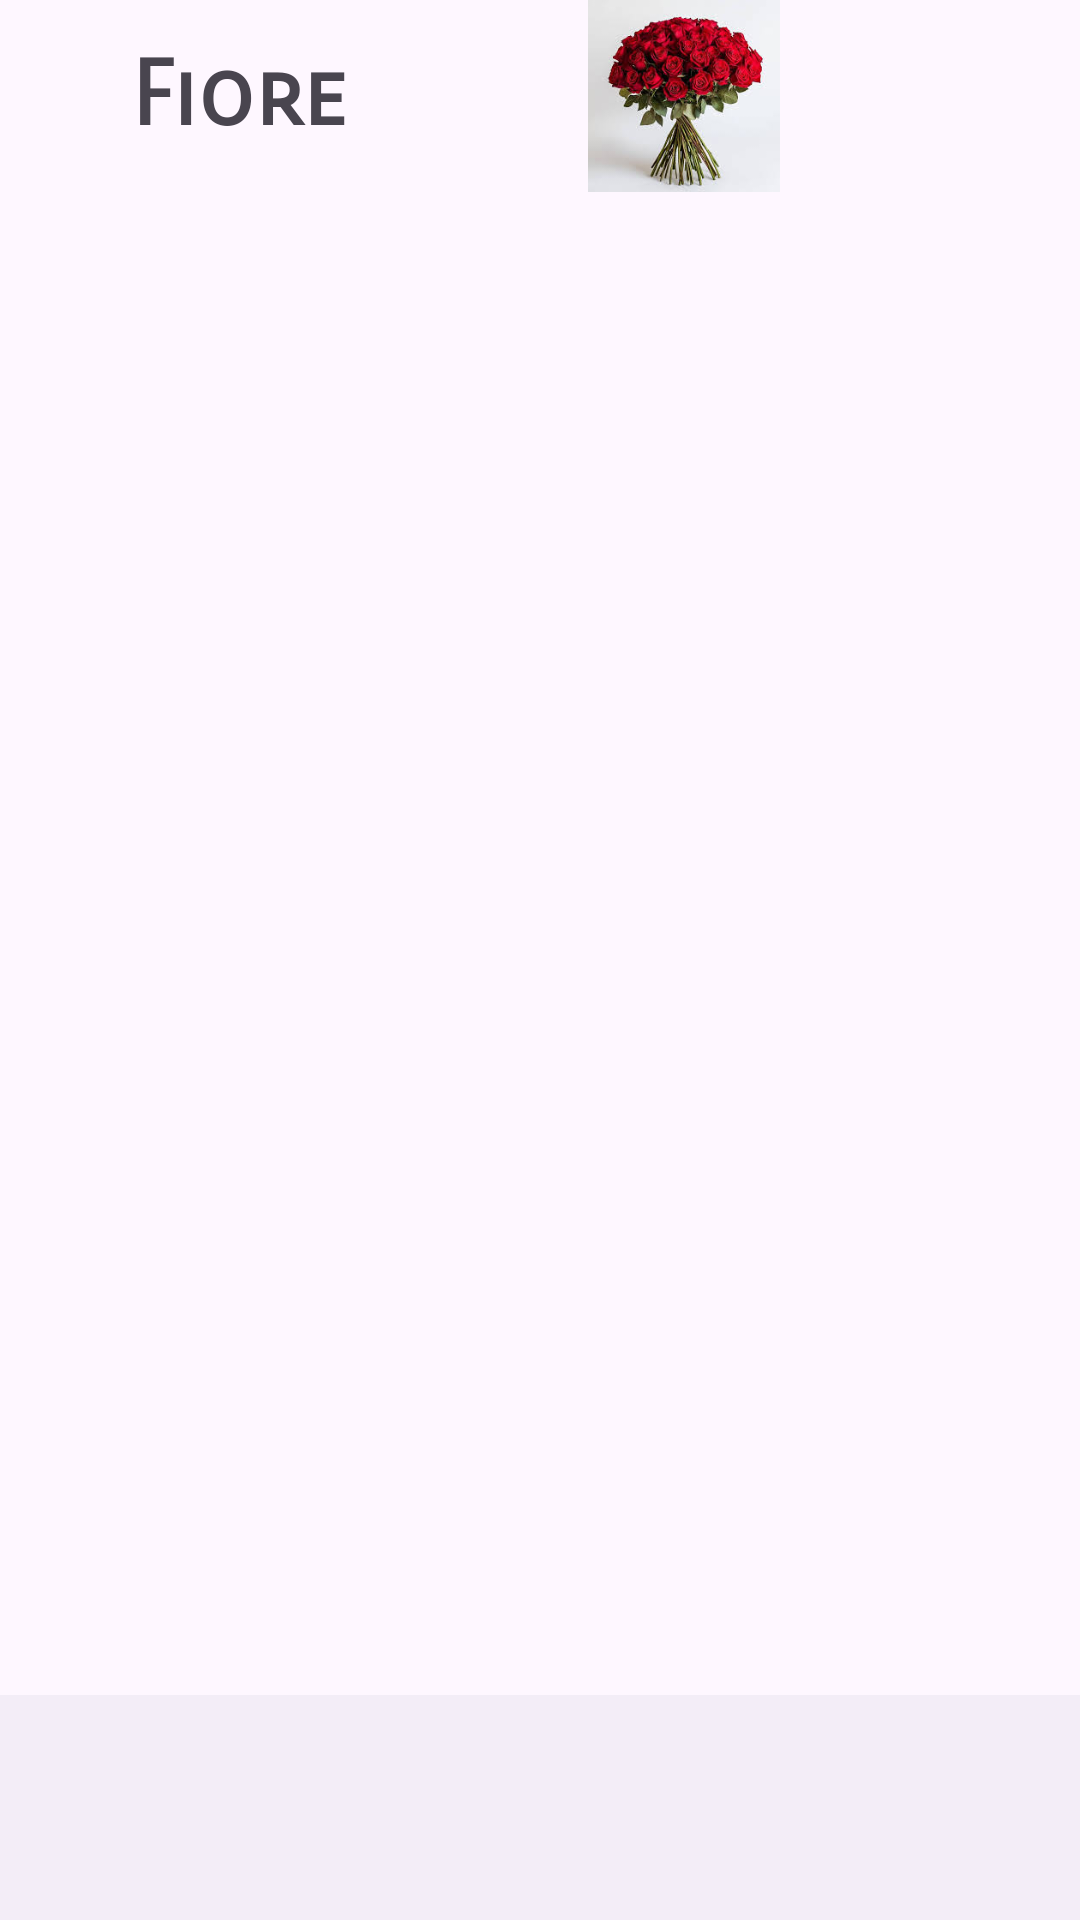

Icon click points for this 1080 × 1920 phone screenshot, format point (x, y):
roses: point (677, 96)
